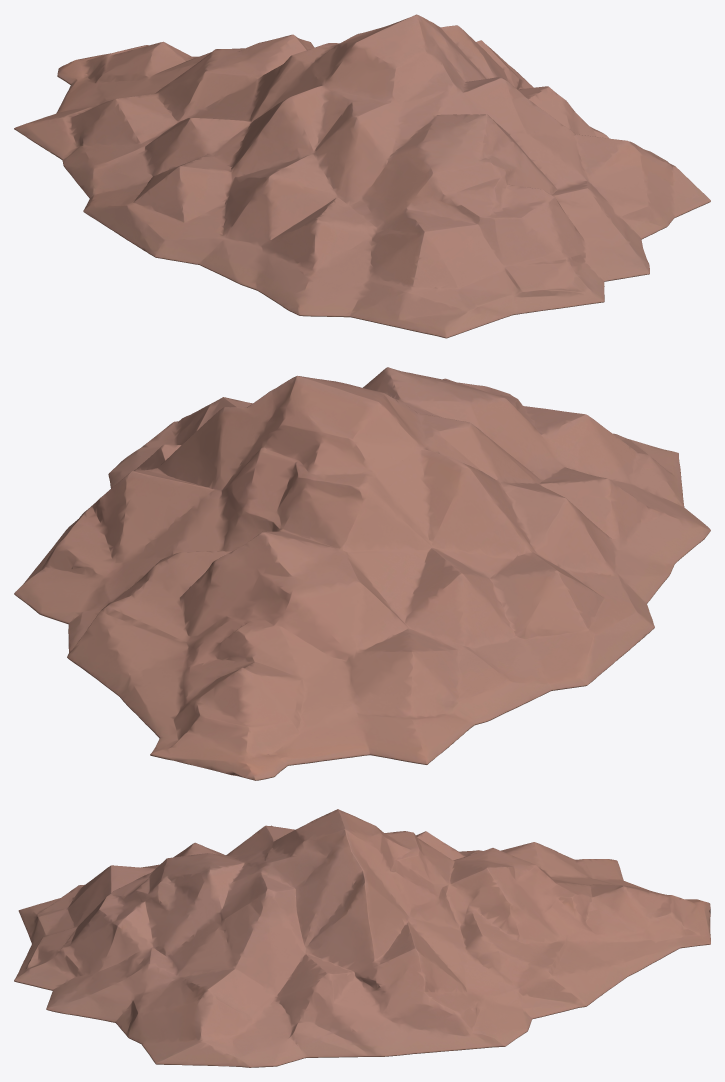
Rendered from low-poly+mountain+3d+model (1).glb.
3 views of the same model, one above another, from view 1: azimuth 30°, elevation 25°; view 2: azimuth 150°, elevation 25°; view 3: azimuth 270°, elevation 25° (orthographic). The views are drawn at different scales.
Visible parts, largest first — view 1: tripo_node_cf428817-01fa-4ac1-81e0-357b427f1727; view 2: tripo_node_cf428817-01fa-4ac1-81e0-357b427f1727; view 3: tripo_node_cf428817-01fa-4ac1-81e0-357b427f1727.
Boxes of the visible parts, x1,y1,x2,y2 form: tripo_node_cf428817-01fa-4ac1-81e0-357b427f1727: (14, 14, 710, 338); tripo_node_cf428817-01fa-4ac1-81e0-357b427f1727: (14, 367, 710, 780); tripo_node_cf428817-01fa-4ac1-81e0-357b427f1727: (14, 809, 710, 1067).
Bounding box in the file's own units: 0.7518 × 0.2348 × 1.
Materials: 1 (1 with a texture image).
